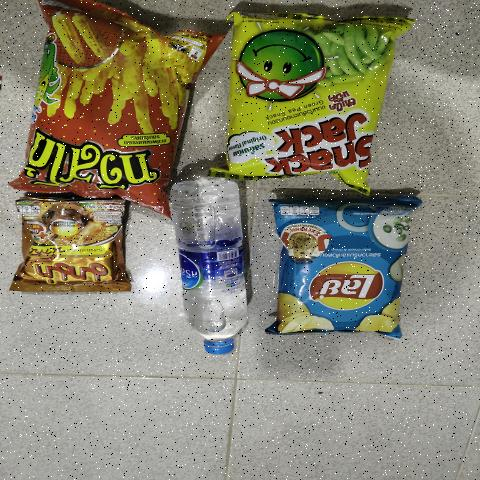crystal: (168, 184, 255, 359)
lay_blue: (274, 196, 403, 332)
mama: (15, 201, 120, 291)
snack_jack: (238, 19, 376, 174)
twisco: (35, 10, 157, 196)
